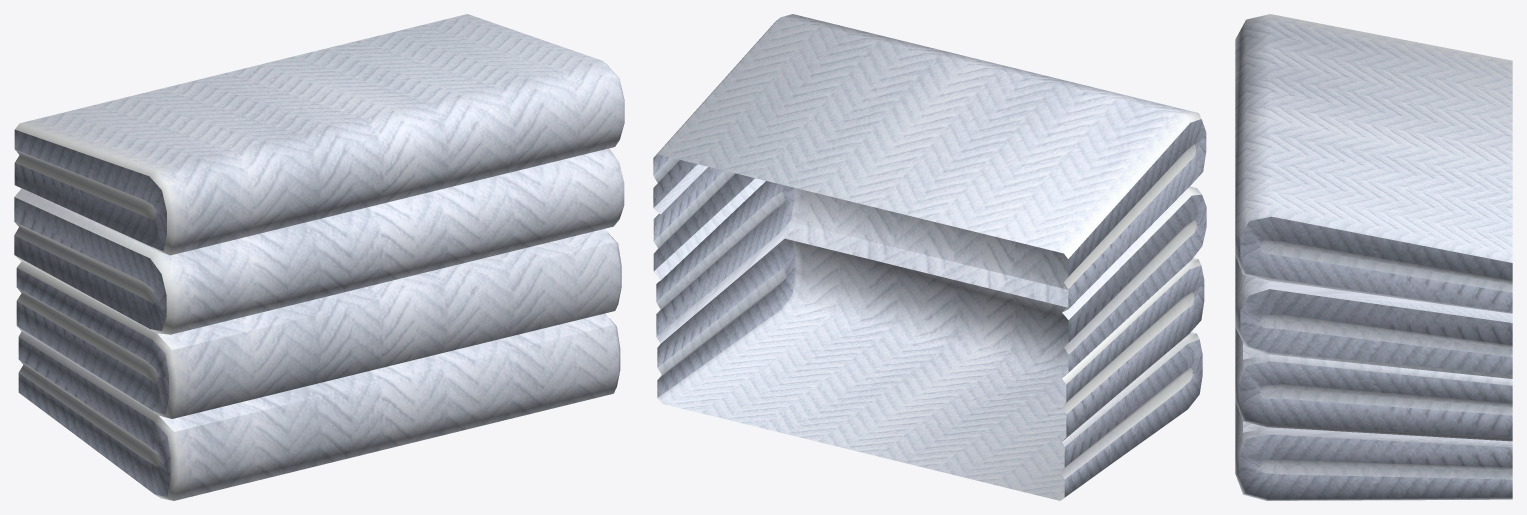
File: PROPS_towelsPack_01.FBX
3 views of the same model, side by side, from view 1: azimuth 30°, elevation 25°; view 2: azimuth 150°, elevation 25°; view 3: azimuth 270°, elevation 25° (orthographic). The views are drawn at different scales.
Visible parts, largest first — view 1: PROPS_towelsPack_01; view 2: PROPS_towelsPack_01; view 3: PROPS_towelsPack_01.
Part boxes in pixels (<box>): PROPS_towelsPack_01: <box>14,14,624,500</box>; PROPS_towelsPack_01: <box>653,14,1206,500</box>; PROPS_towelsPack_01: <box>1235,14,1512,500</box>.
Size of the model in its own units: 53.83 by 36.78 by 31.55.
Materials: 1 (1 with a texture image).
